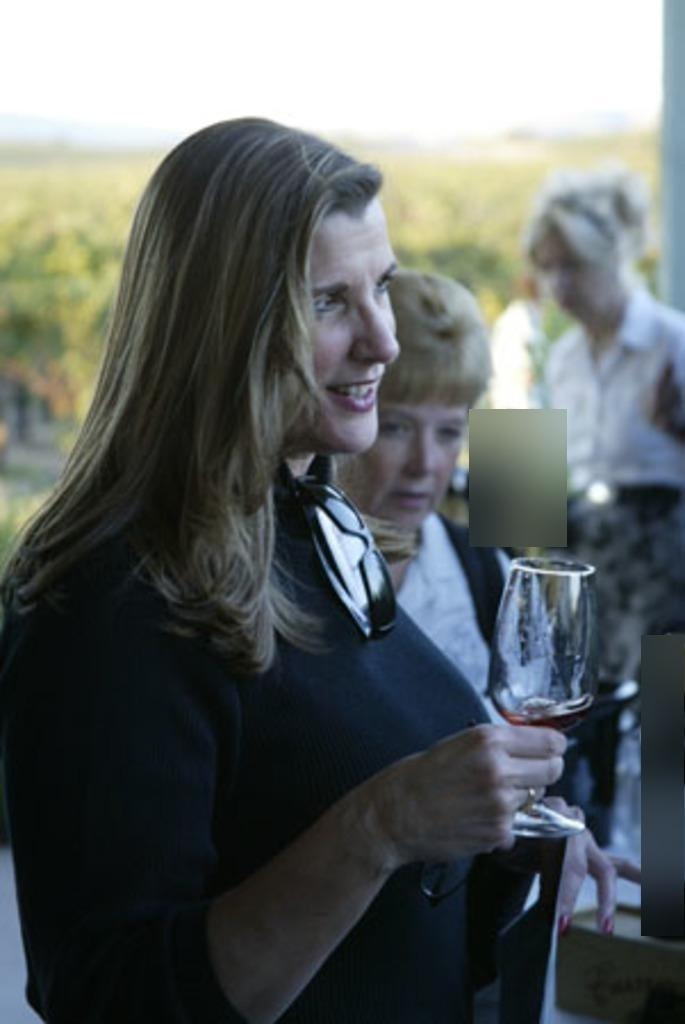glass-wine: (489, 553, 599, 840)
